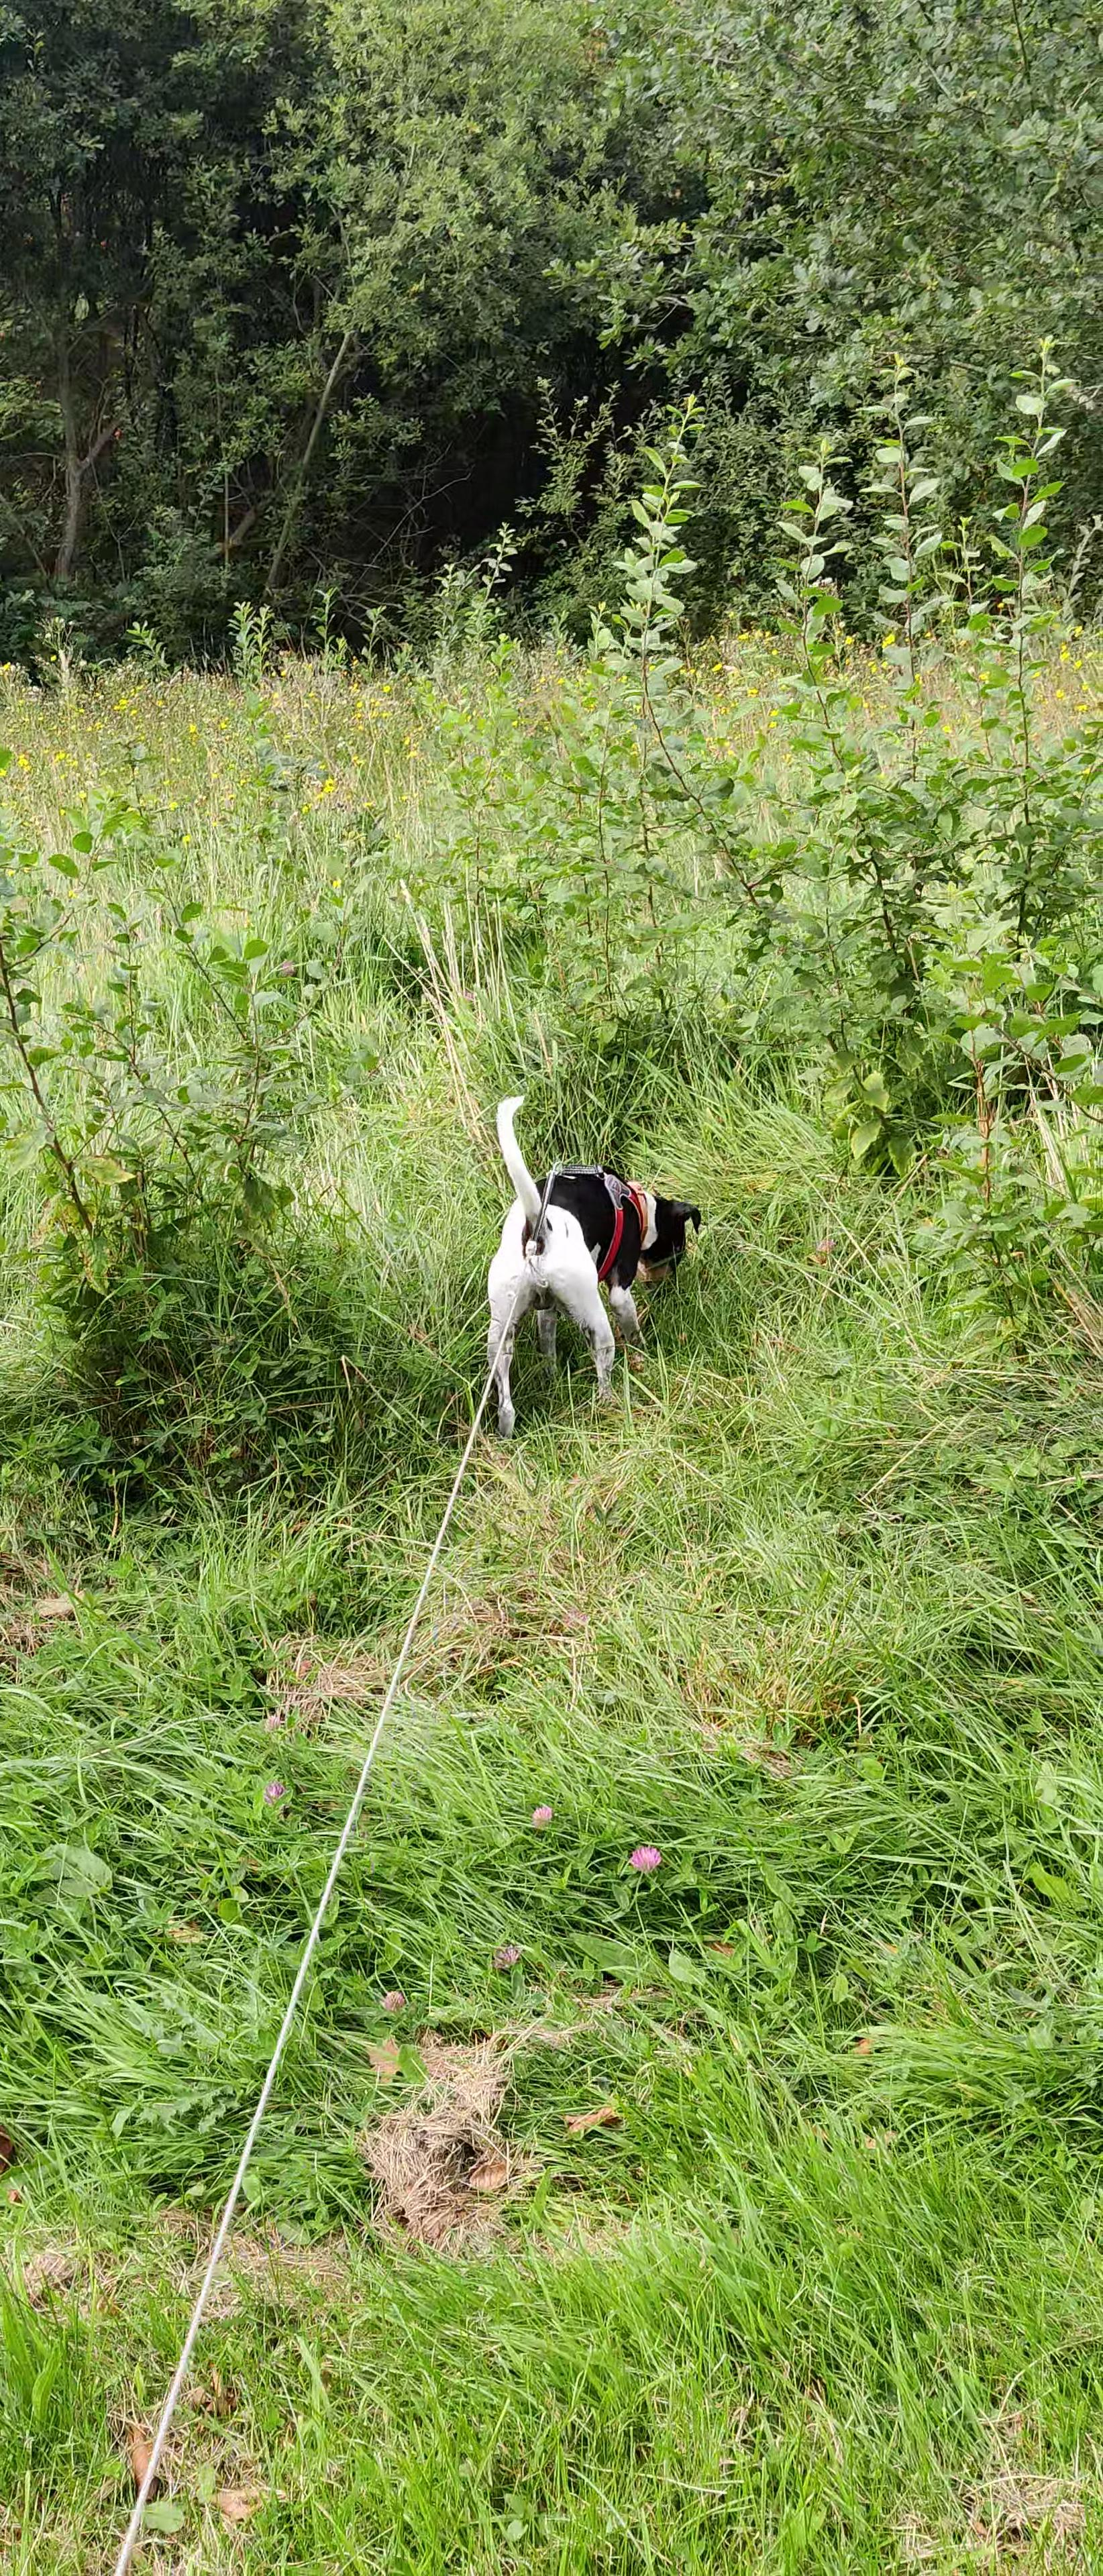Dog: (482, 1086, 708, 1451)
